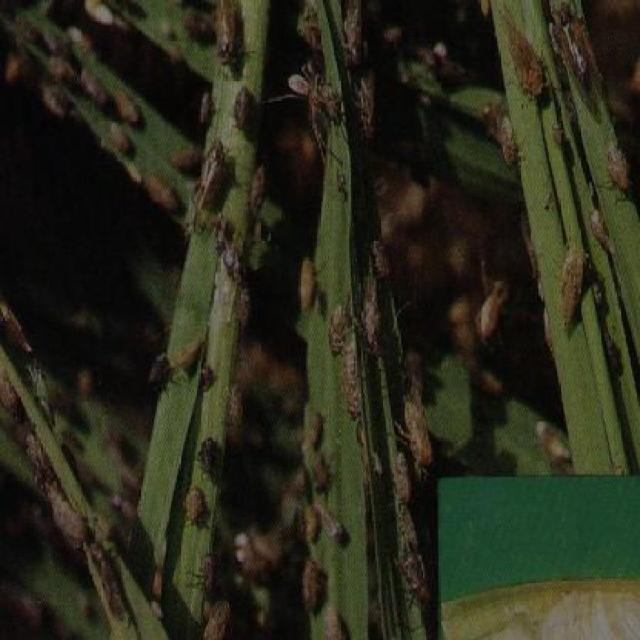brown-planthopper: (555, 8, 603, 104), (499, 8, 546, 100), (397, 520, 431, 603), (558, 245, 588, 329), (198, 138, 230, 210), (51, 494, 86, 551), (214, 3, 243, 66), (408, 395, 434, 463), (358, 278, 382, 351), (148, 172, 186, 215), (25, 435, 52, 491), (82, 63, 110, 112), (342, 348, 360, 422), (497, 119, 520, 170), (300, 258, 320, 314), (198, 432, 222, 478), (590, 210, 616, 252), (115, 88, 143, 124), (317, 504, 346, 538), (208, 603, 234, 640), (234, 83, 254, 131), (43, 83, 71, 117), (608, 148, 629, 192), (392, 452, 411, 500), (110, 126, 136, 160), (302, 558, 318, 612), (149, 352, 171, 391), (251, 170, 269, 216), (183, 488, 206, 524), (329, 302, 343, 352), (177, 140, 197, 175), (198, 562, 216, 600), (305, 406, 323, 443), (228, 388, 243, 432), (237, 289, 252, 331), (326, 609, 346, 640), (200, 94, 214, 123)
